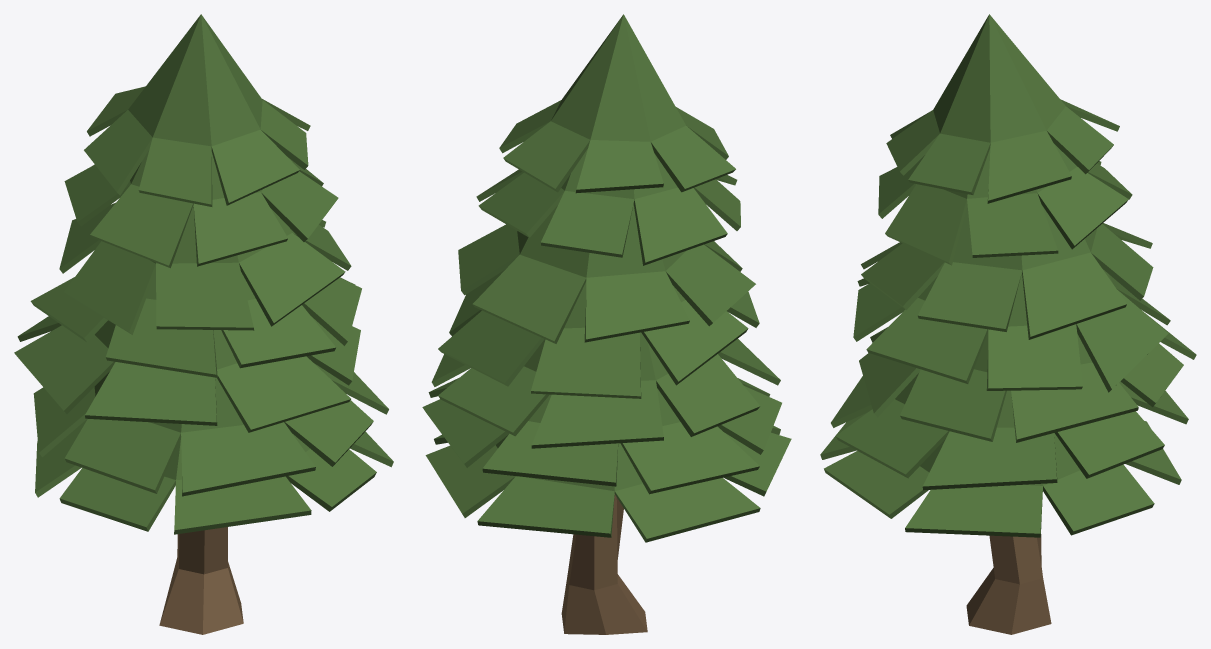
Rendered from tree2.fbx.
3 views of the same model, side by side, from view 1: azimuth 30°, elevation 25°; view 2: azimuth 150°, elevation 25°; view 3: azimuth 270°, elevation 25° (orthographic). The views are drawn at different scales.
Visible parts, largest first — view 1: Cone.007; view 2: Cone.007; view 3: Cone.007.
Boxes of the visible parts, x1,y1,x2,y2 form: Cone.007: (14,14,393,634); Cone.007: (422,14,791,634); Cone.007: (820,14,1196,634).
Size of the model in its own units: 181 by 331 by 189.
